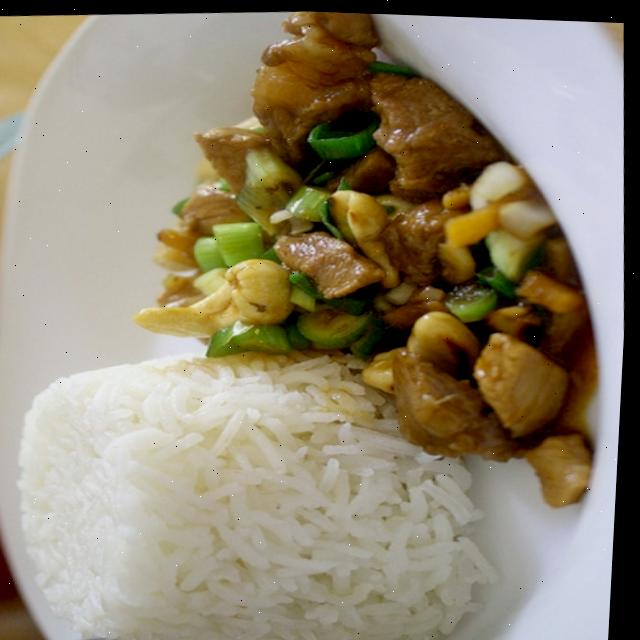猪肉菜式: (0, 6, 621, 628)
